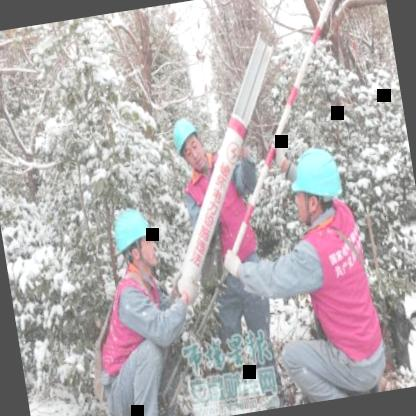helmet: (283, 139, 345, 230), (104, 198, 164, 284), (168, 112, 209, 175)
